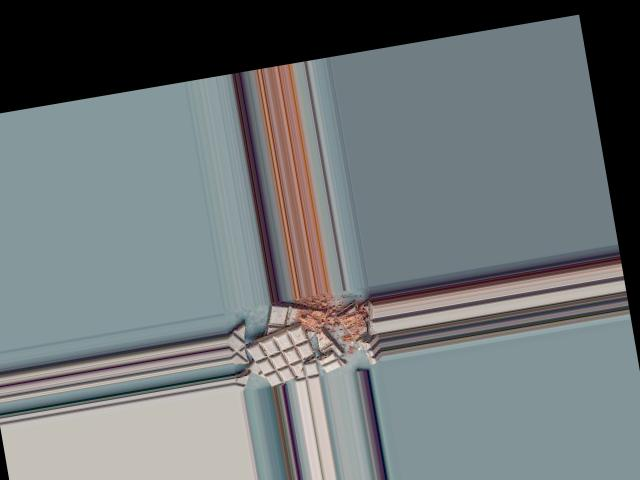chocolate: (242, 323, 317, 389)
